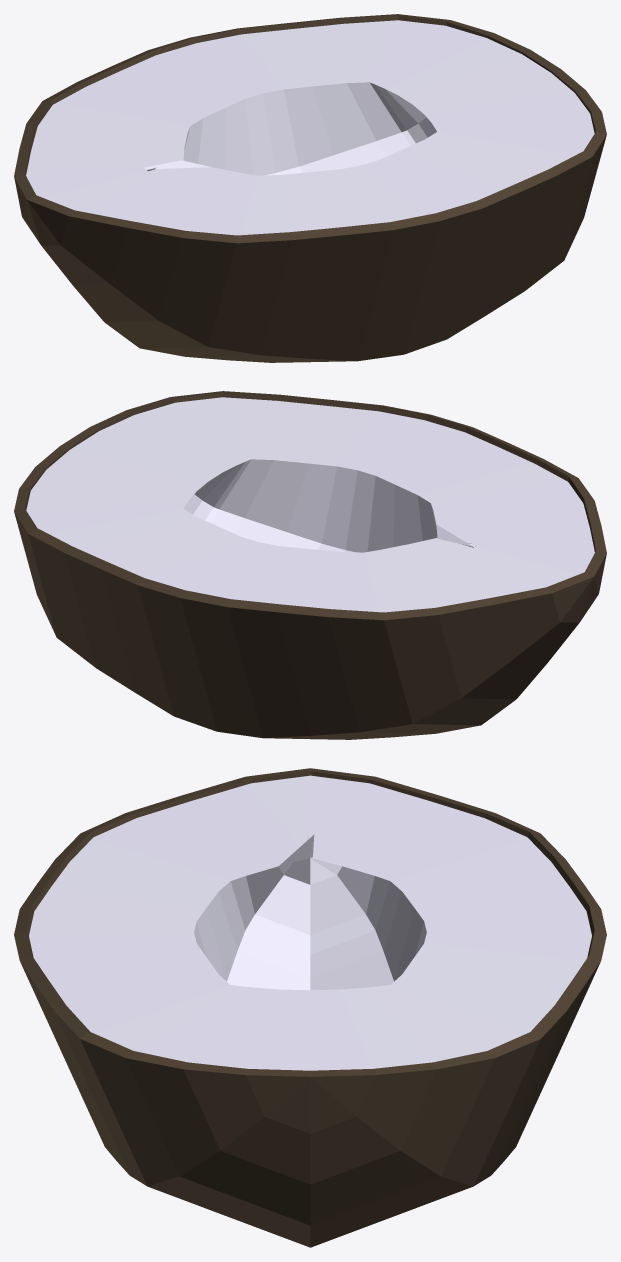
Rendered from half_coconut.fbx.
3 renders of one model, top to bottom at view 1: azimuth 30°, elevation 25°; view 2: azimuth 150°, elevation 25°; view 3: azimuth 270°, elevation 25°, orthographic. The views are drawn at different scales.
Parts seen in each view (by area): view 1: coconut_half_white, coconut_half_brown; view 2: coconut_half_white, coconut_half_brown; view 3: coconut_half_white, coconut_half_brown.
Part boxes in pixels (left/top/right/bottom): coconut_half_white: left=26, top=20, right=594, bottom=235; coconut_half_brown: left=14, top=14, right=606, bottom=362; coconut_half_white: left=26, top=397, right=594, bottom=612; coconut_half_brown: left=14, top=391, right=606, bottom=739; coconut_half_white: left=29, top=775, right=591, bottom=1070; coconut_half_brown: left=14, top=768, right=606, bottom=1247.
Bounding box in the file's own units: 220 × 90.65 × 178.
